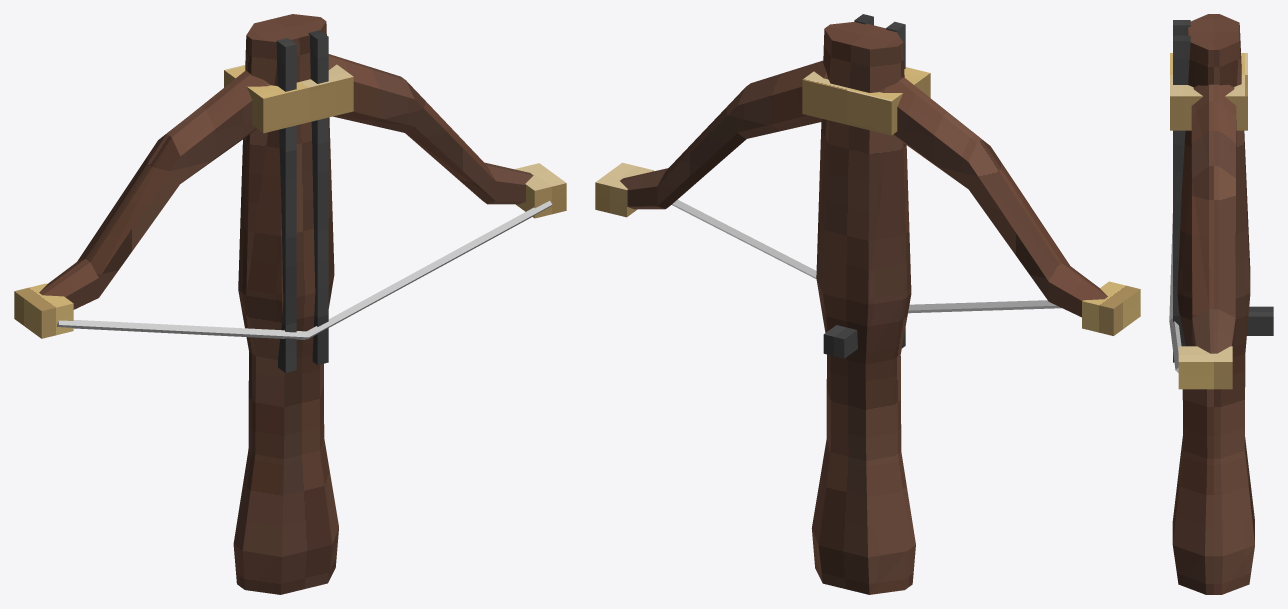
Rendered from cutout.obj.
The picture shows the model from 3 angles, left to right: view 1: azimuth 30°, elevation 25°; view 2: azimuth 150°, elevation 25°; view 3: azimuth 270°, elevation 25°; orthographic projection.
Size of the model in its own units: 1.19 by 1.19 by 0.2075.
